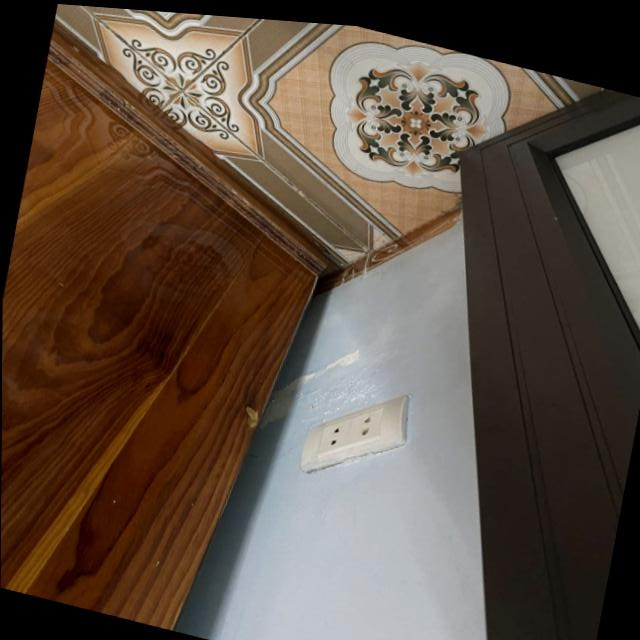outlet: (297, 371, 414, 498)
